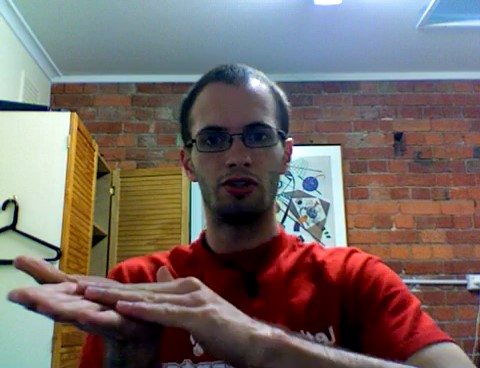H: (8, 229, 247, 368)
